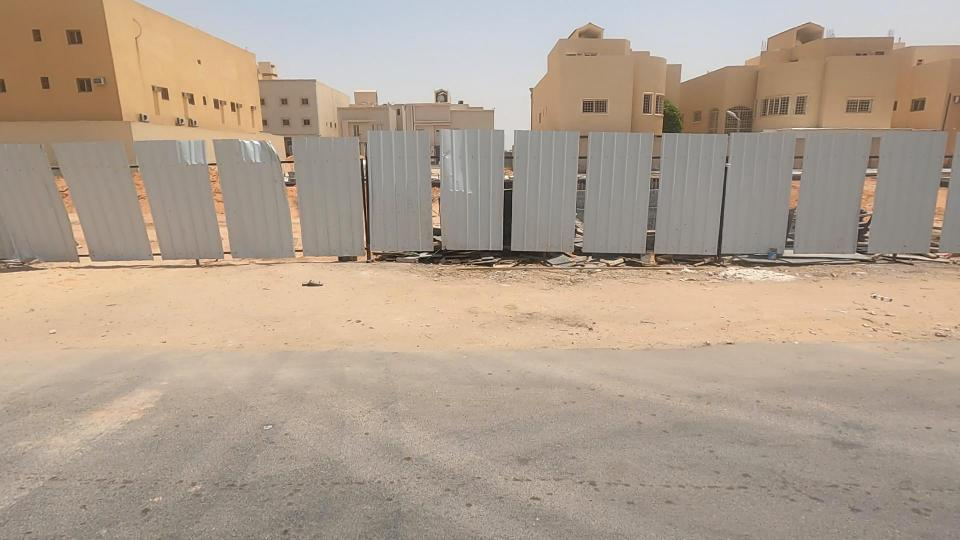GARBAGE: (496, 222, 645, 298), (389, 230, 552, 290)
